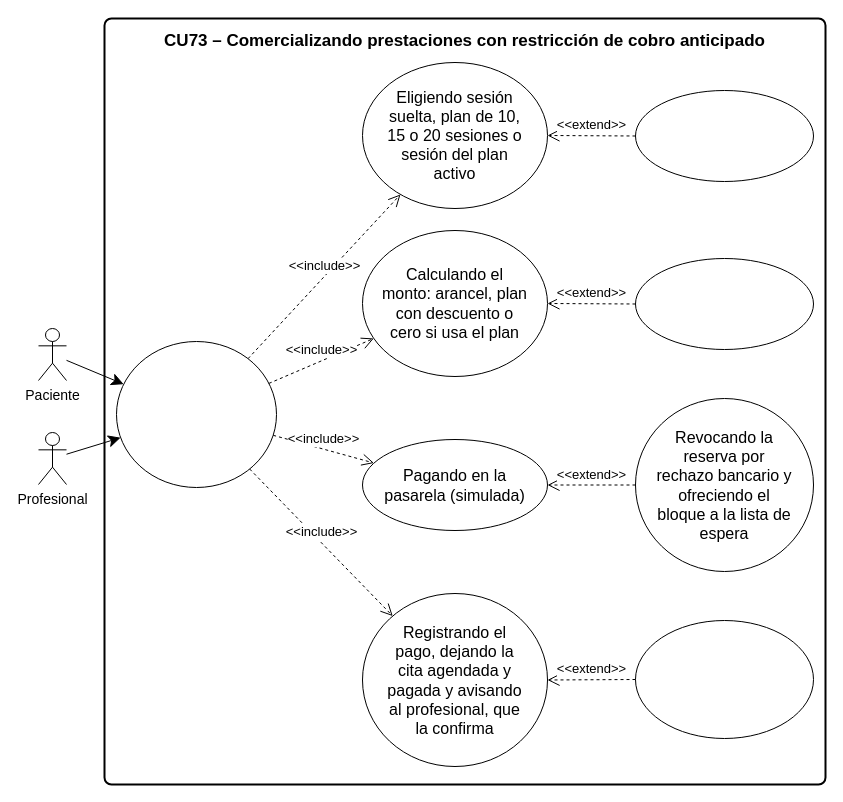
Some shapes in this 843 by 802 pixel diagram are drawn without their labels. Each missing label, with the box of its shape:
Bloqueando transacción por modalidad omitida: (634, 90, 814, 182)
Comercializando prestaciones con restricción de cobro anticipado: (116, 340, 276, 488)
Emitiendo error por caída de cálculo: (634, 258, 814, 350)
Registrando pago en tránsito: hora reservada pero no confirmable: (634, 620, 814, 738)
